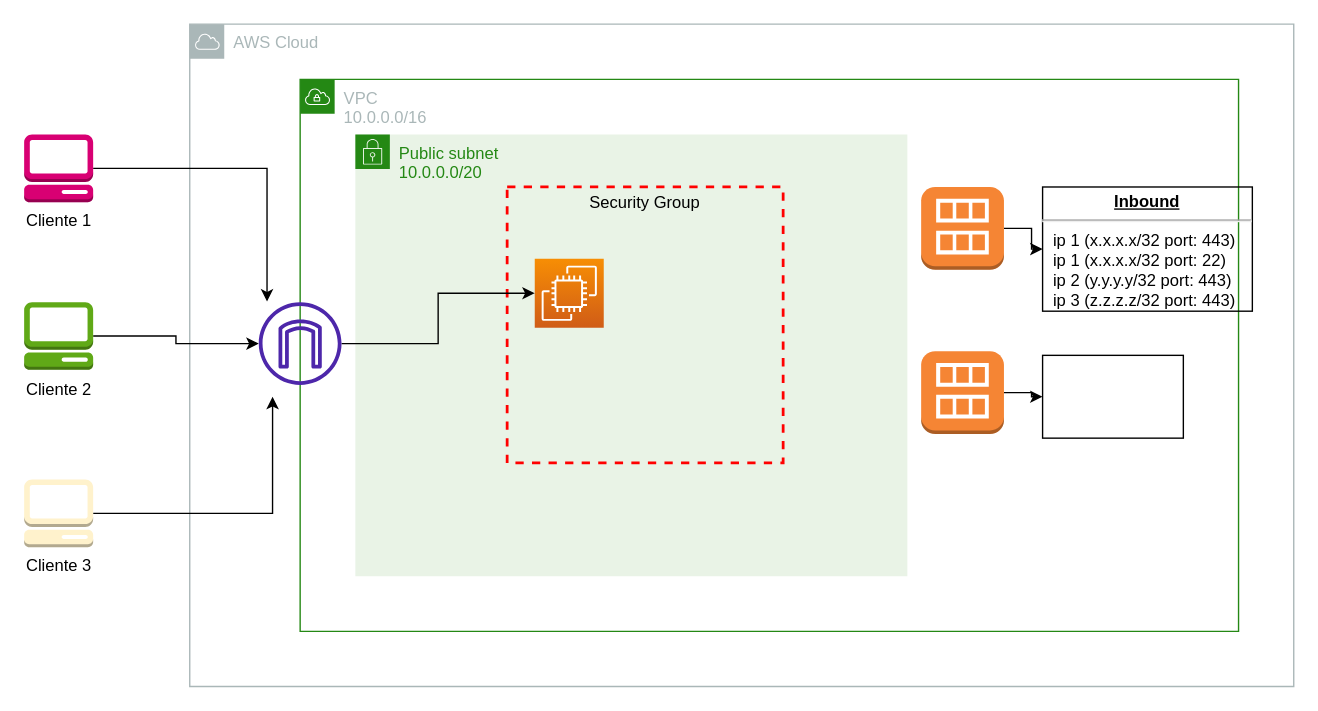
Image size: 1318x711. Some labels were removed from this diagram. The shapes that lost their labels are listed below. From the top down, each one's centre as x and y in pixels, then its label:
(962,228): Inbound
(568,292): ip server
(962,392): Outbound
(1112,396): Outbound 0.0.0.0/0
